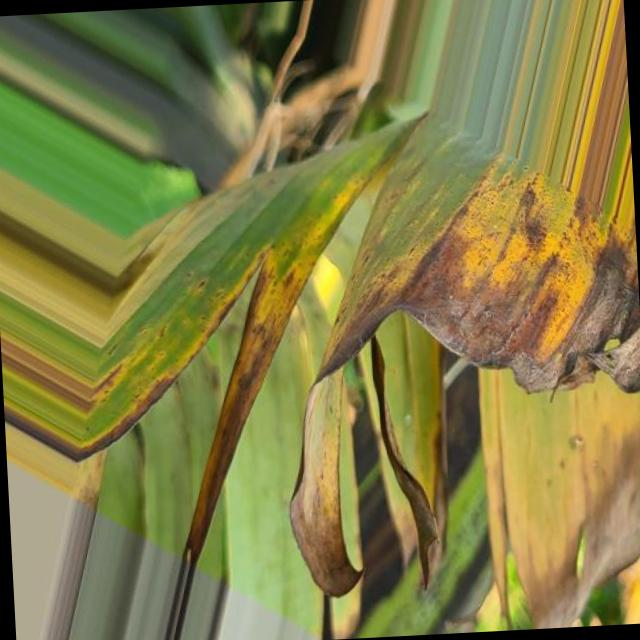Banana_Black_Sigatoka: (402, 18, 640, 634), (16, 176, 410, 548)
